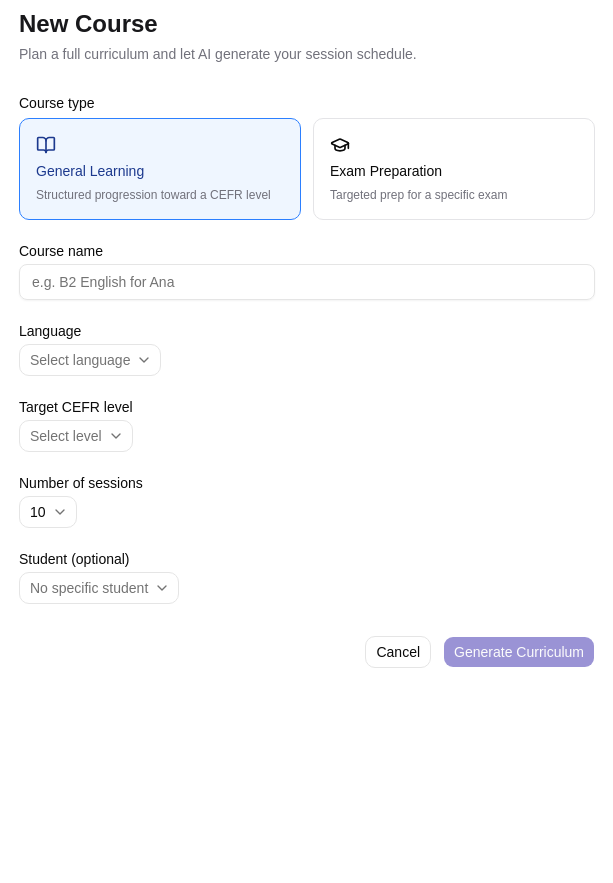
it: CourseNew wizard › renders teacher notes textarea when a student is selected
// Select a student
Click the dropdown with test id "student-select": (99, 588) [19, 572, 179, 604]
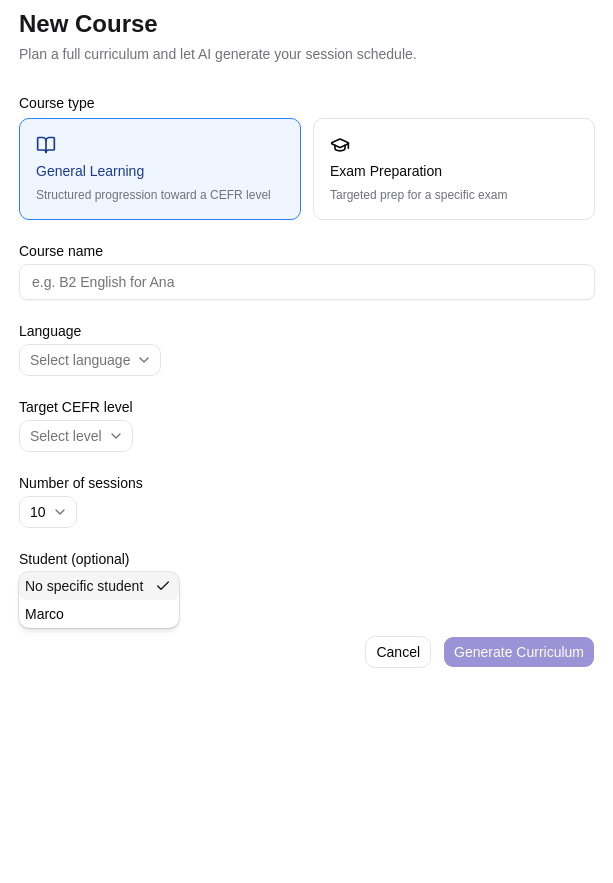
Click the option "Marco": (44, 614) [25, 606, 64, 622]
(page scrolled)
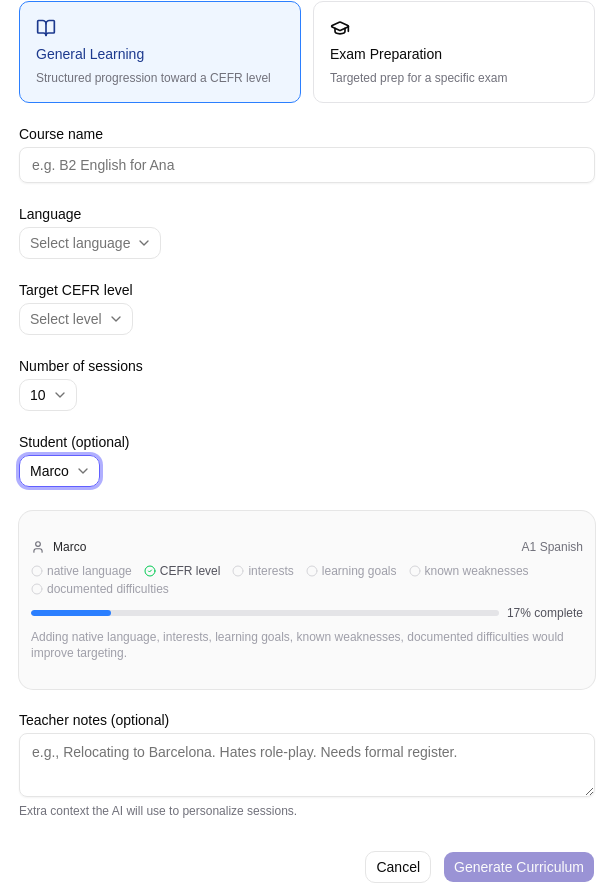
Expected: the text box with test id "teacher-notes" is shown, [19, 733, 595, 797]
